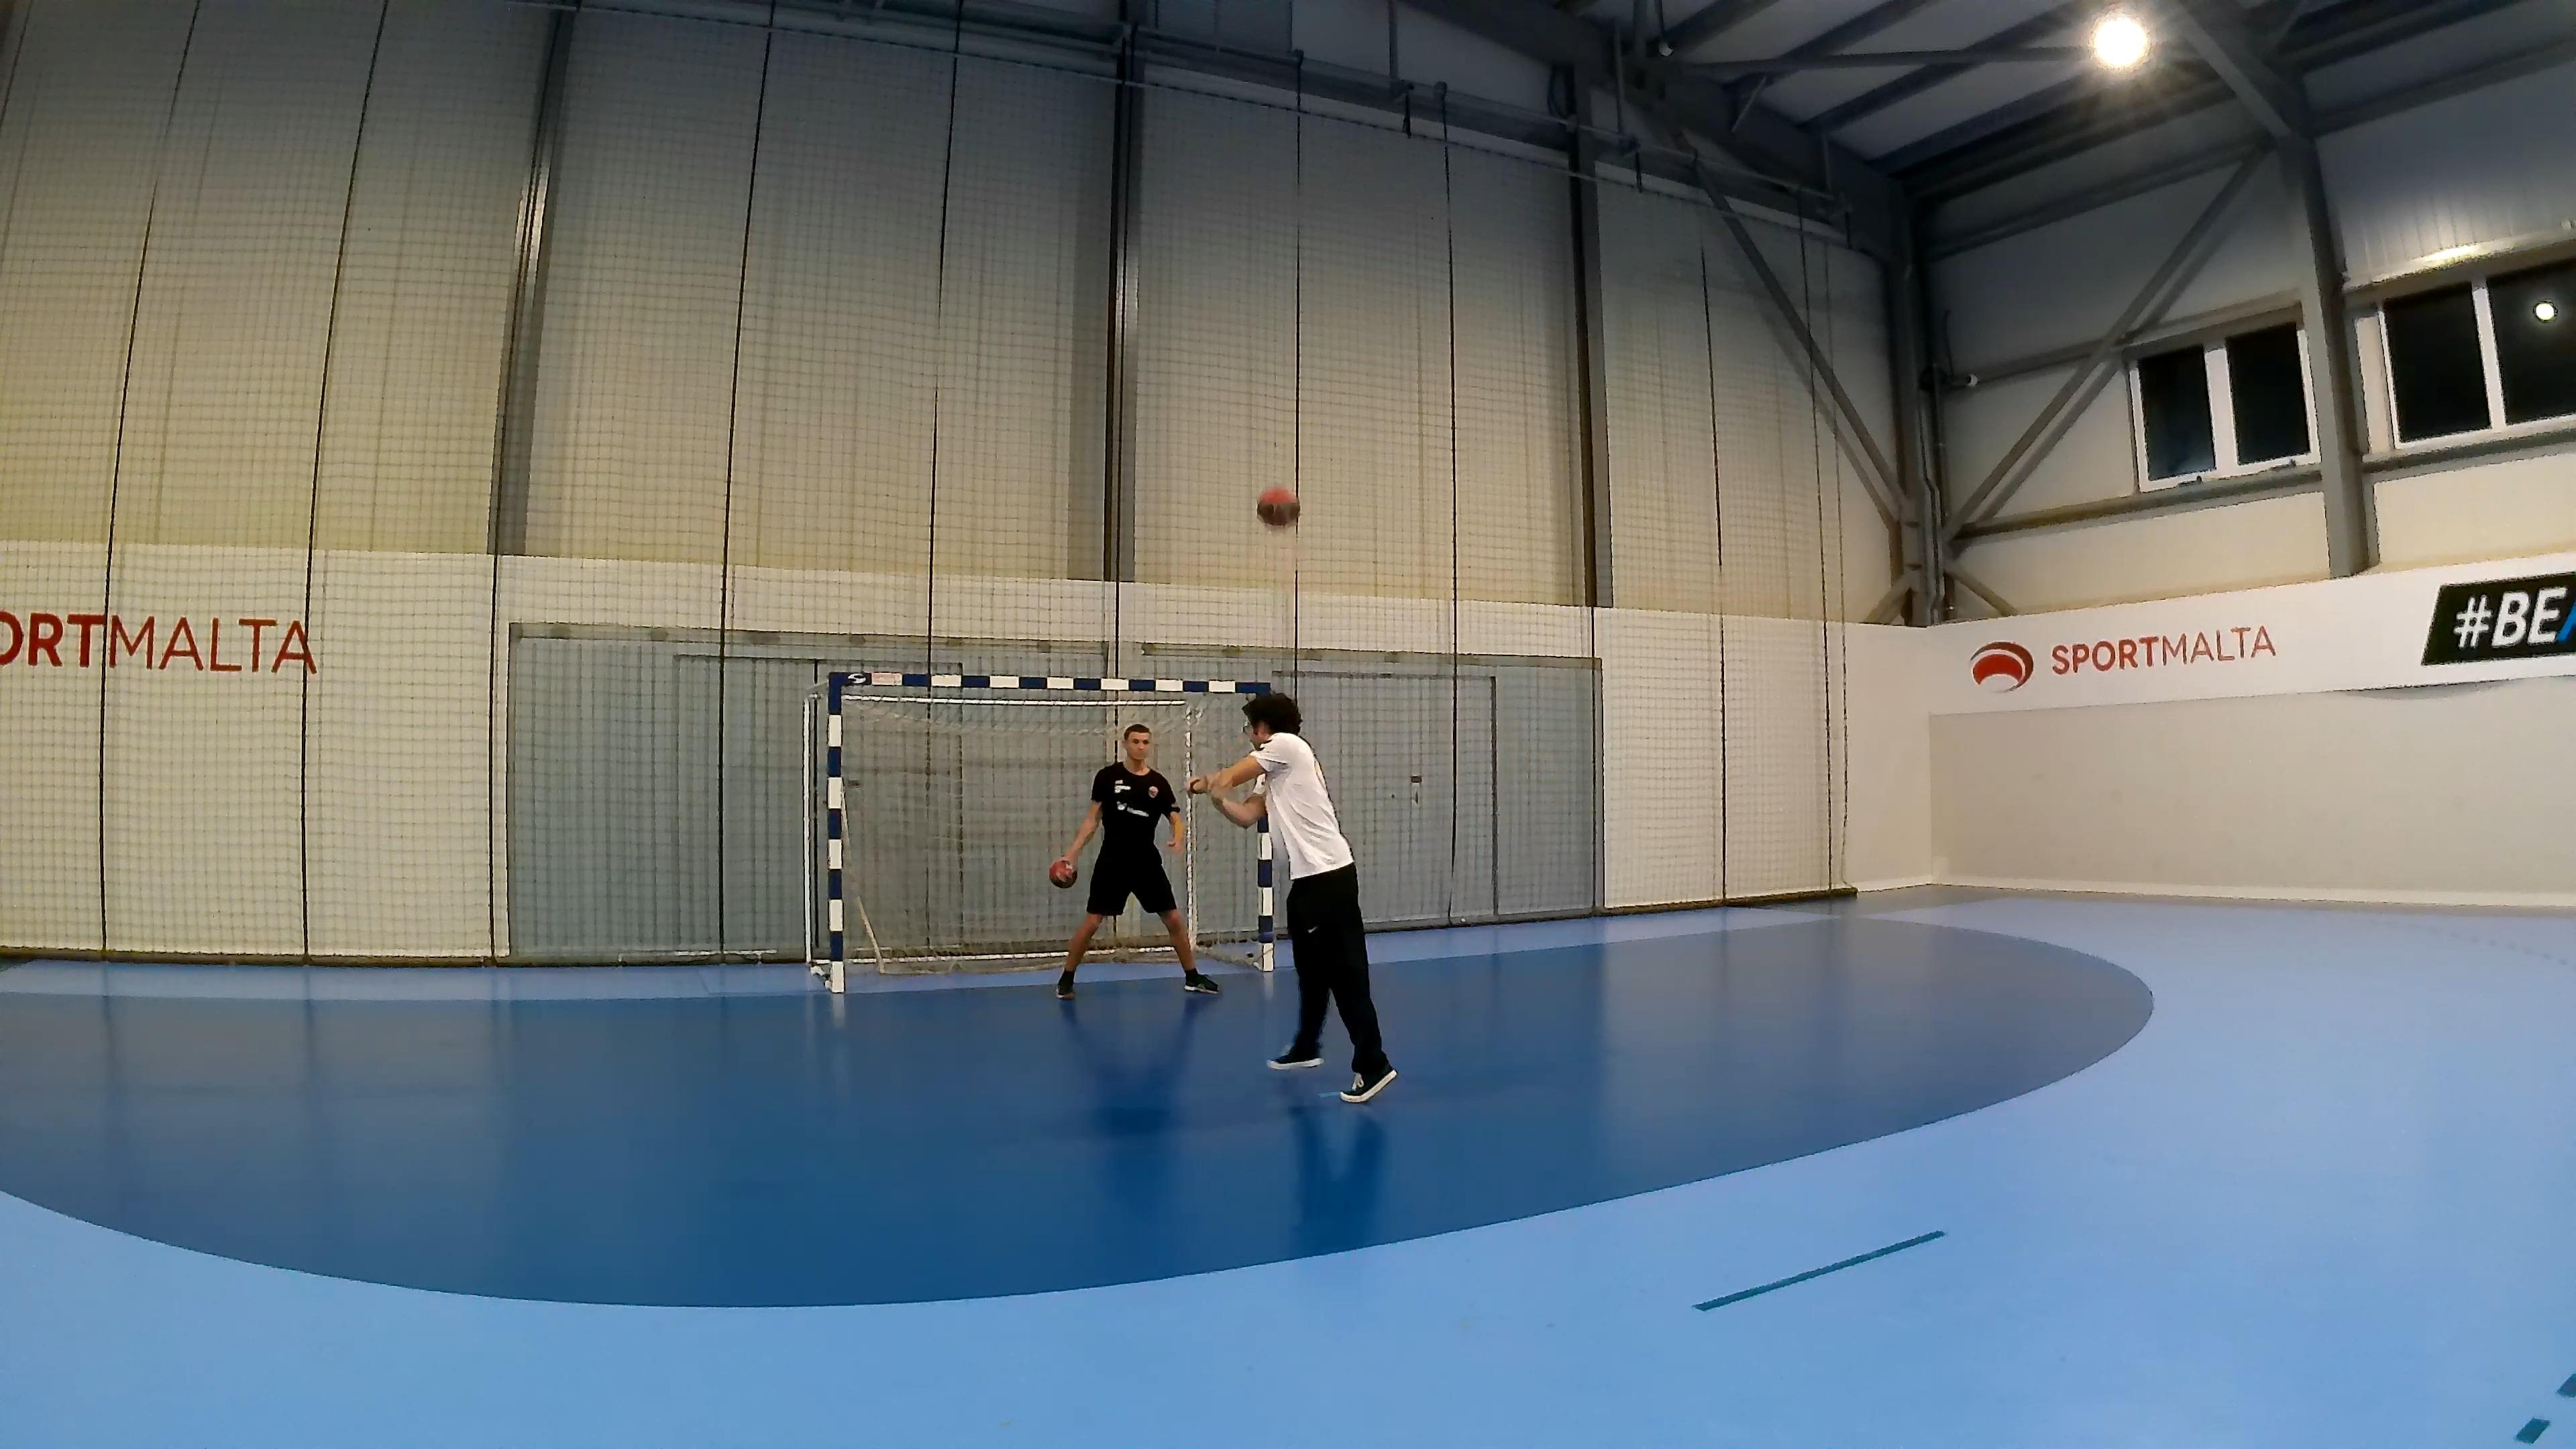handball: (1254, 481, 1300, 534), (1047, 858, 1079, 890)
